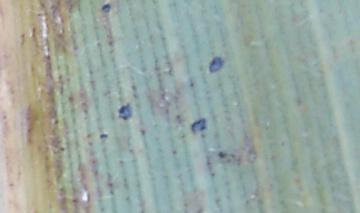tarspot: (115, 101, 133, 122), (207, 55, 225, 74), (189, 117, 206, 134), (101, 1, 112, 15), (18, 32, 25, 48), (216, 150, 227, 160), (98, 132, 109, 140), (187, 78, 195, 88), (52, 117, 60, 125), (58, 145, 66, 152)
